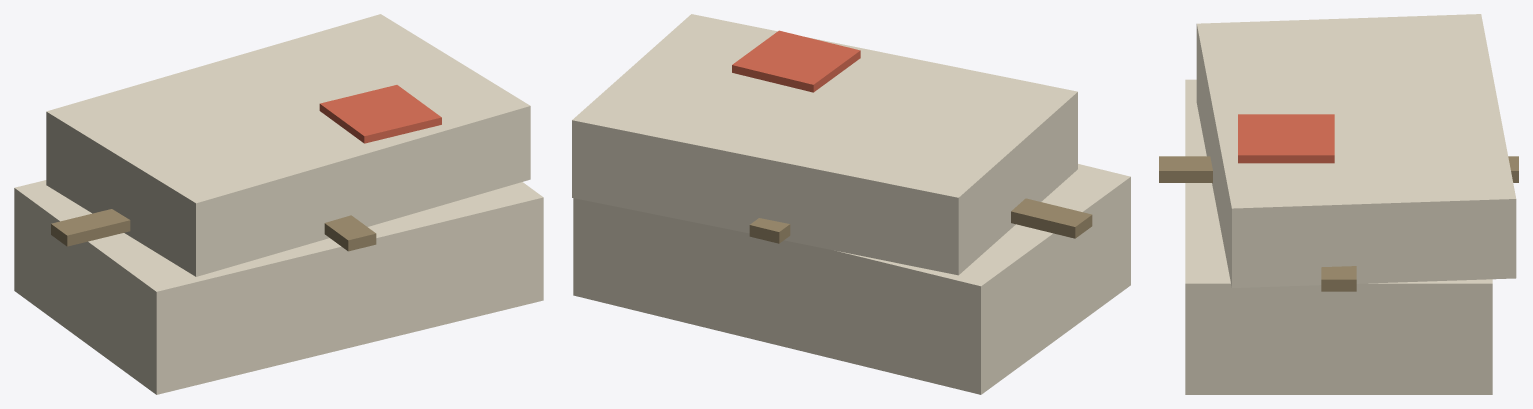
Rendered from ration_bundle.glb.
3 views of the same model, side by side, from view 1: azimuth 30°, elevation 25°; view 2: azimuth 150°, elevation 25°; view 3: azimuth 270°, elevation 25° (orthographic). The views are drawn at different scales.
Parts seen in each view (by area): view 1: ration_bundle; view 2: ration_bundle; view 3: ration_bundle.
Boxes of the visible parts, x1,y1,x2,y2 form: ration_bundle: (14, 14, 543, 394); ration_bundle: (572, 14, 1130, 394); ration_bundle: (1159, 14, 1518, 394).
Size of the model in its own units: 0.125 by 0.05 by 0.082.
